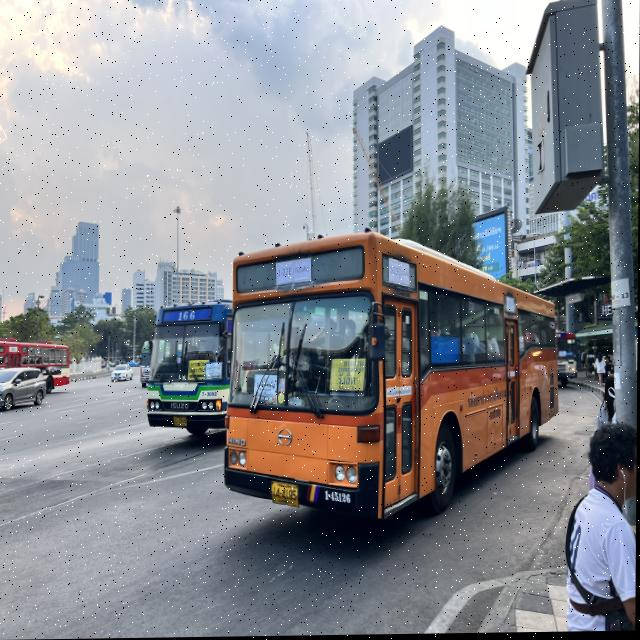BMTA-bus: (224, 234, 561, 524), (146, 303, 232, 441)
Bus Line Number: (273, 258, 317, 288), (389, 255, 414, 289), (178, 308, 200, 323)
Bus Side Number: (324, 488, 354, 509), (200, 390, 220, 399)
Destination Sign: (330, 356, 370, 398), (185, 359, 209, 382)
